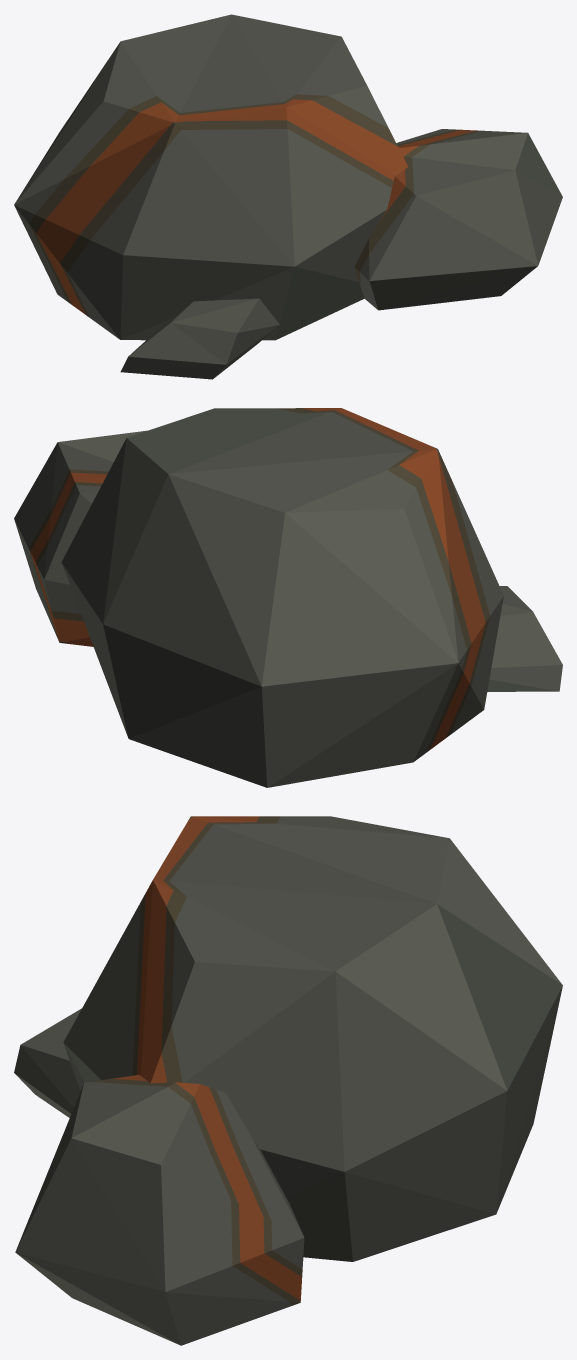
The model's file is ore_copper_v03_lod0.glb.
The picture shows the model from 3 angles, top to bottom: view 1: azimuth 30°, elevation 25°; view 2: azimuth 150°, elevation 25°; view 3: azimuth 270°, elevation 25°; orthographic projection. The views are drawn at different scales.
Parts seen in each view (by area): view 1: ore_copper_v03_lod0; view 2: ore_copper_v03_lod0; view 3: ore_copper_v03_lod0.
Boxes of the visible parts, <box> form: ore_copper_v03_lod0: <box>14,14,562,379</box>; ore_copper_v03_lod0: <box>14,408,562,787</box>; ore_copper_v03_lod0: <box>14,816,562,1345</box>.
Size of the model in its own units: 2.48 by 1.11 by 1.83.
